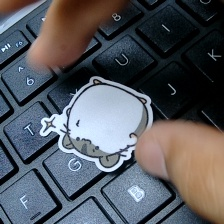mouse: (39, 71, 155, 174)
